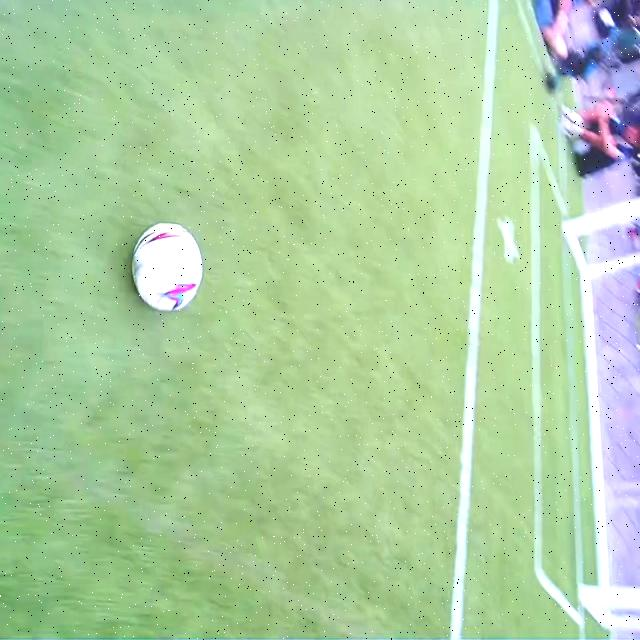ball: (133, 220, 201, 312)
